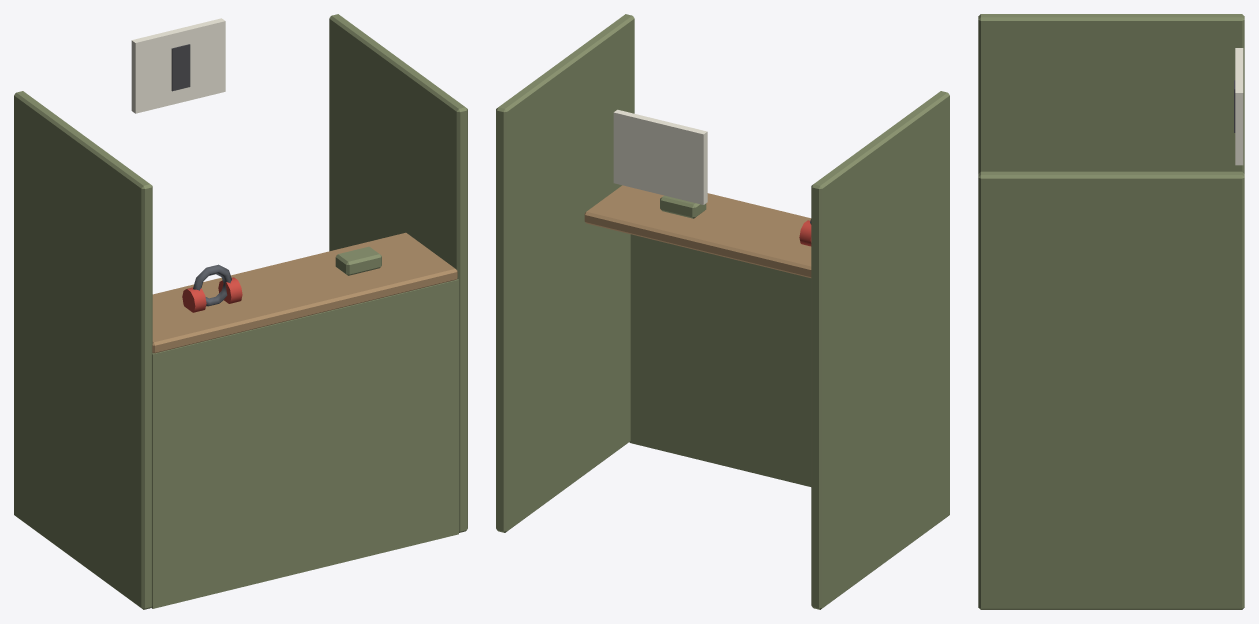
The model's file is firing_booth.glb.
3 renders of one model, left to right at view 1: azimuth 30°, elevation 25°; view 2: azimuth 150°, elevation 25°; view 3: azimuth 270°, elevation 25°, orthographic. The views are drawn at different scales.
Visible parts, largest first — view 1: firing_booth; view 2: firing_booth; view 3: firing_booth.
Part boxes in pixels (bbox=[...]): firing_booth: bbox=[14, 14, 467, 609]; firing_booth: bbox=[496, 14, 949, 609]; firing_booth: bbox=[978, 14, 1244, 609].
Size of the model in its own units: 1.45 by 1.9 by 1.
